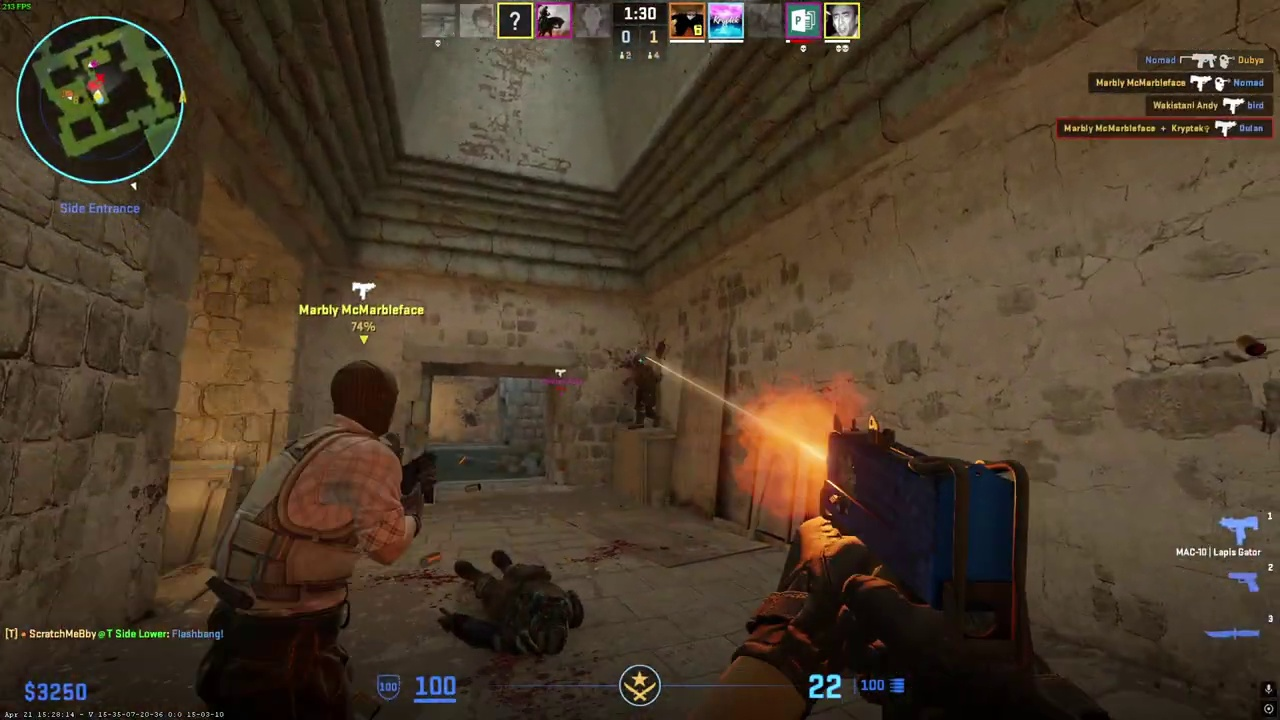CT: (629, 356, 661, 430)
Terrorist: (210, 360, 409, 720)
